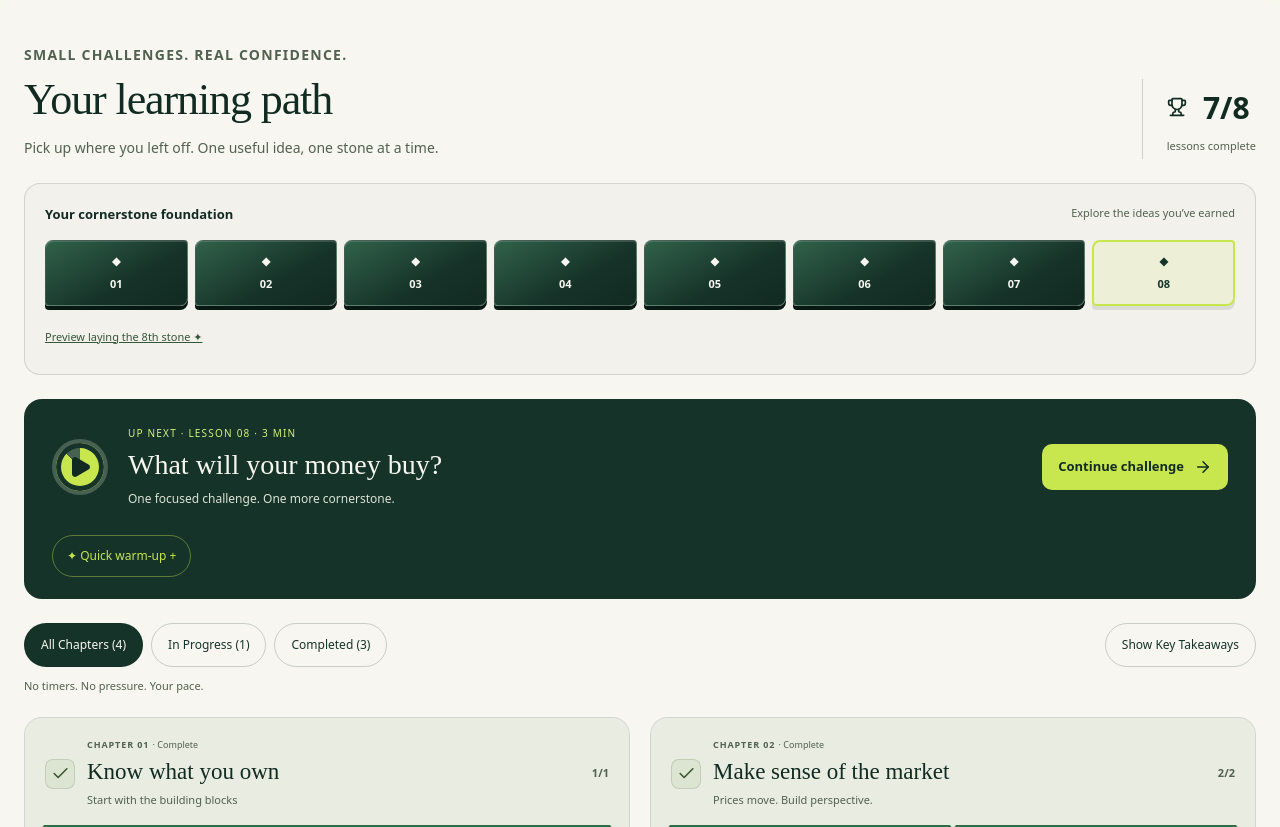
Test: provides warmup feedback and a completion preview without awarding progress
The width and height of the screenshot is (1280, 827).
What coordinates should you click on to do the following:
click the button "✦ Quick warm-up +"
I would click on:
 (122, 556)
Its box is [52,535,191,577].
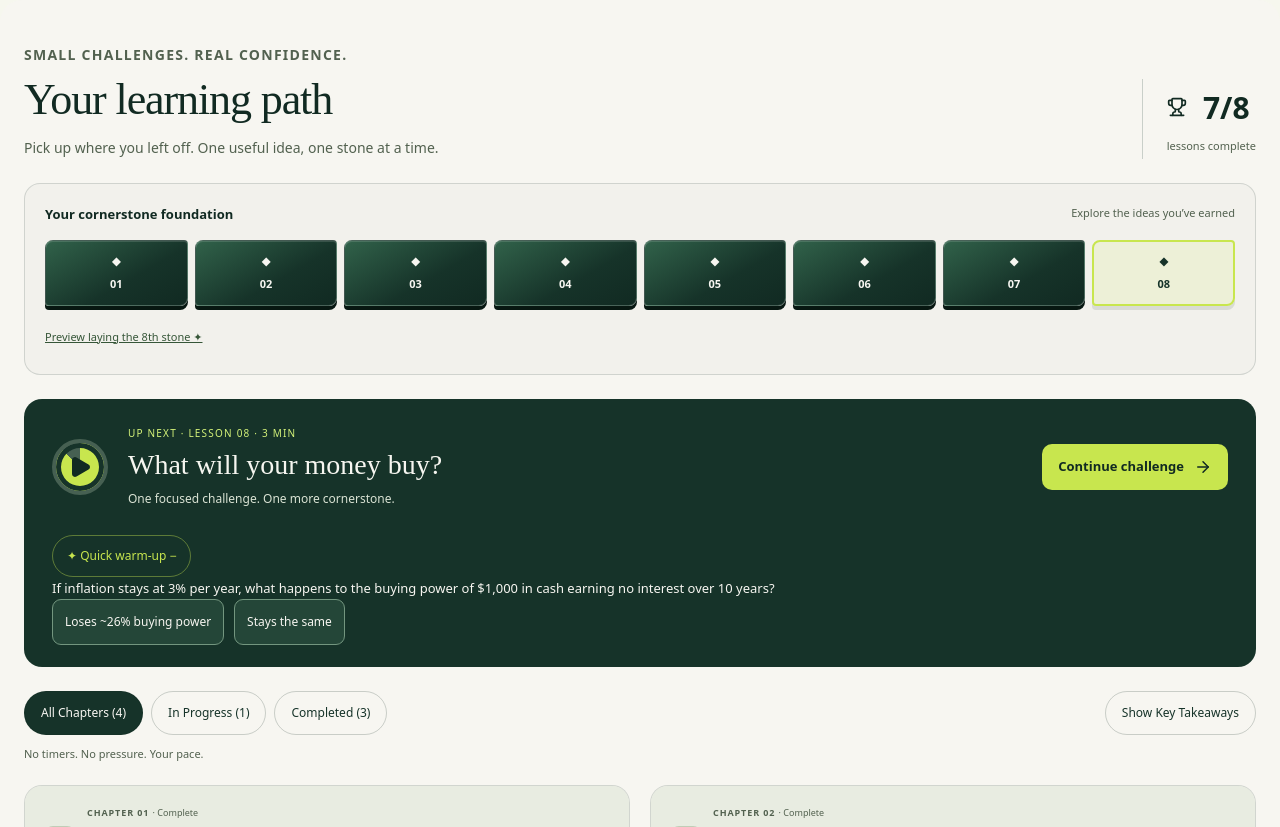
What coordinates should you click on to do the following:
click the button "Stays the same"
I would click on:
 (290, 622)
Its box is [234,599,345,645].
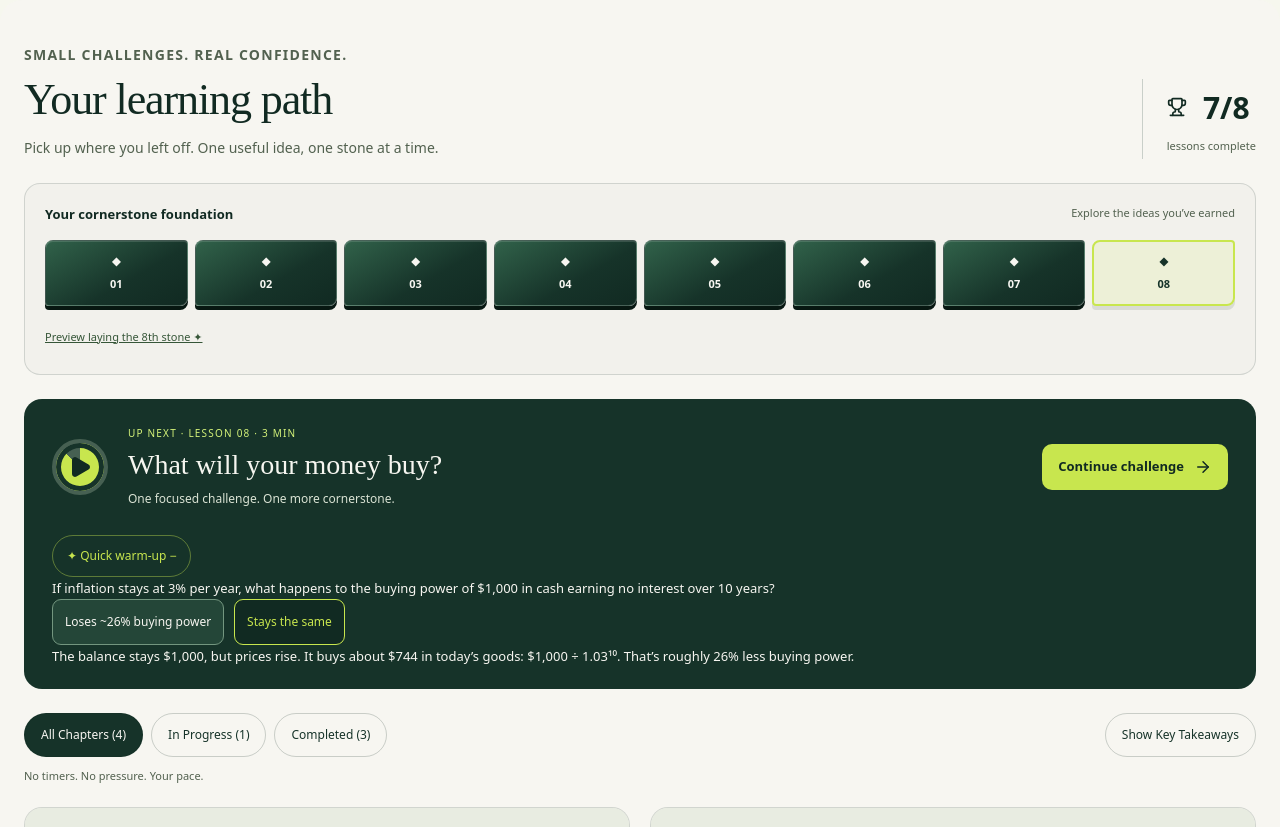
Now the text "It buys about $744" is shown, box [304,647,854,665]
What coordinates should you click on to do the following:
click the button "Preview laying the 8th stone ✦"
I would click on:
 (124, 337)
Its box is [45,320,202,354].
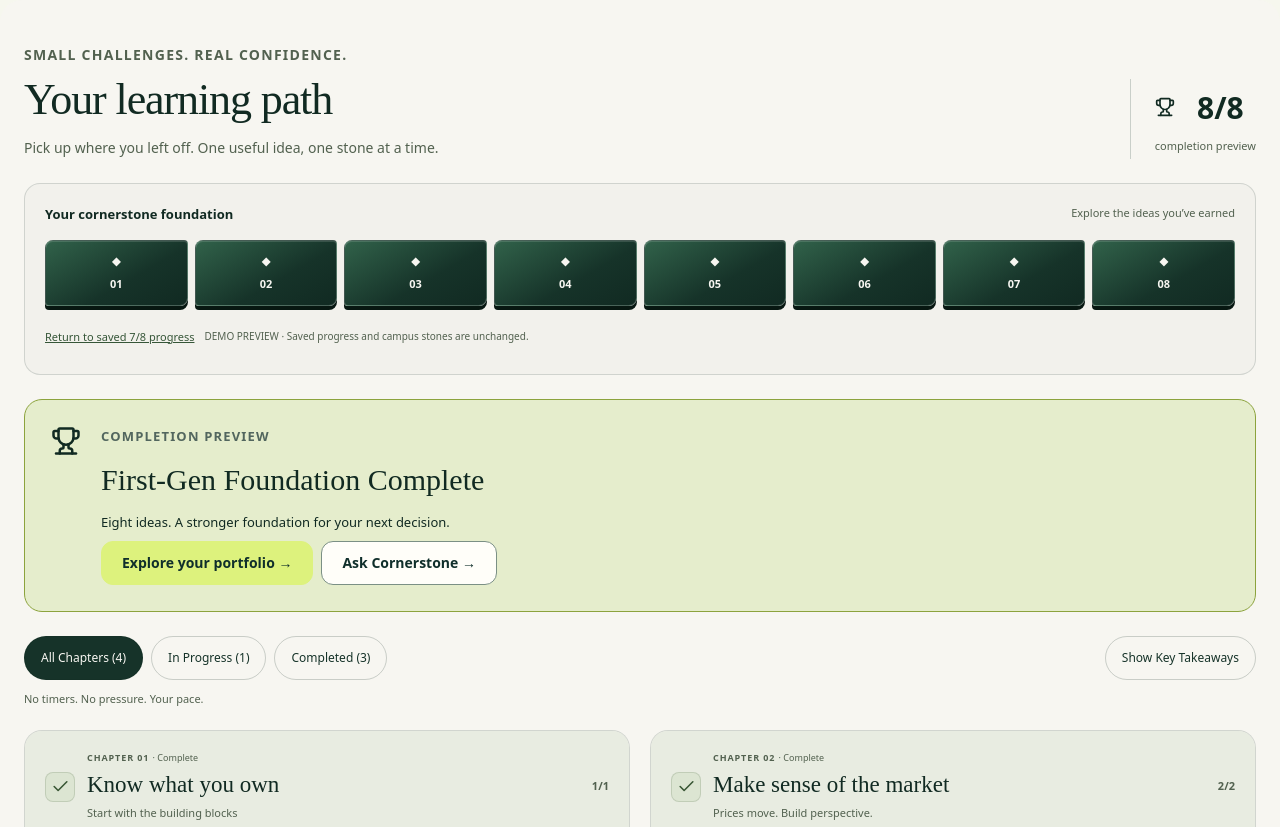
Now the heading "First-Gen Foundation Complete" is shown, box [101,454,505,504]
Now the text "8/8" is shown, box [1197,86,1244,128]
What coordinates should you click on to do the following:
click the button "Return to saved 7/8 progress"
I would click on:
 (120, 337)
Its box is [45,320,194,354].
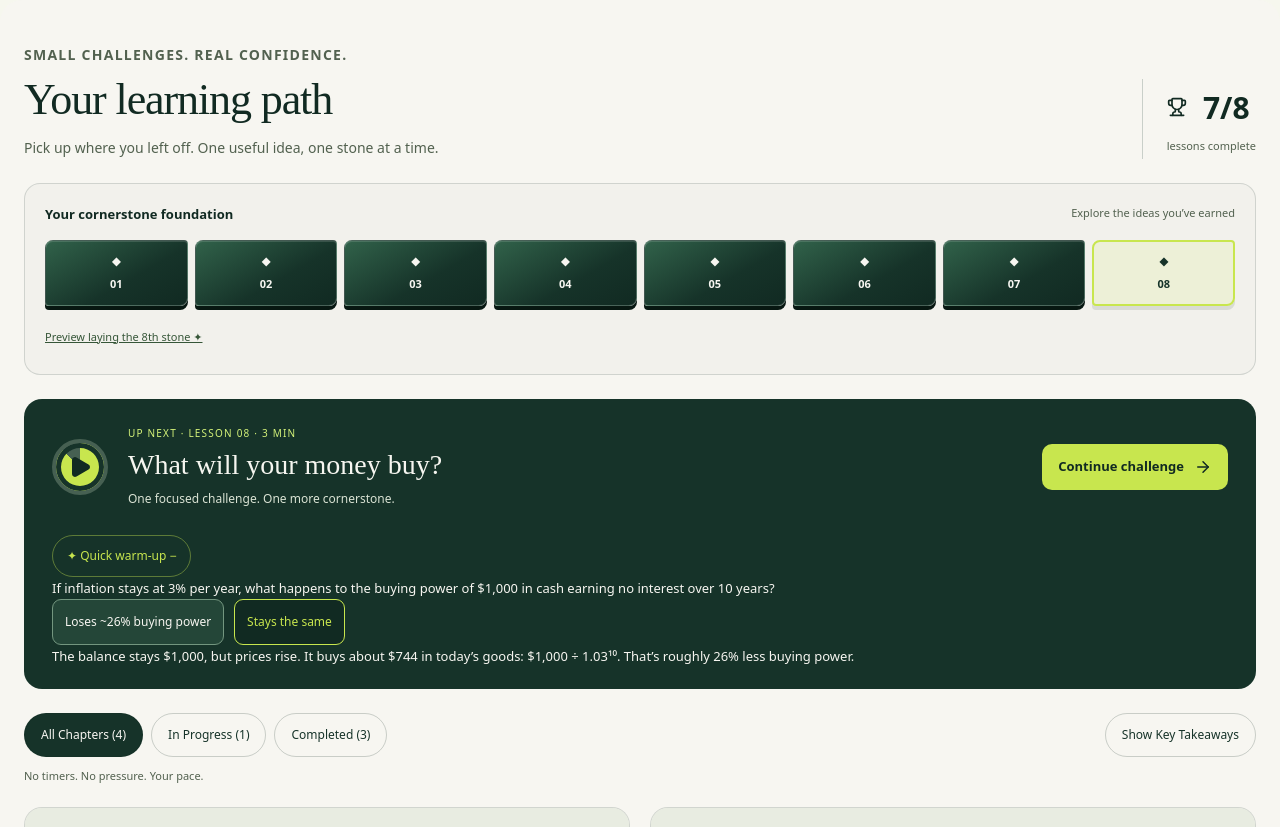
Now the text "7/8" is shown, box [1203,82,1256,132]
